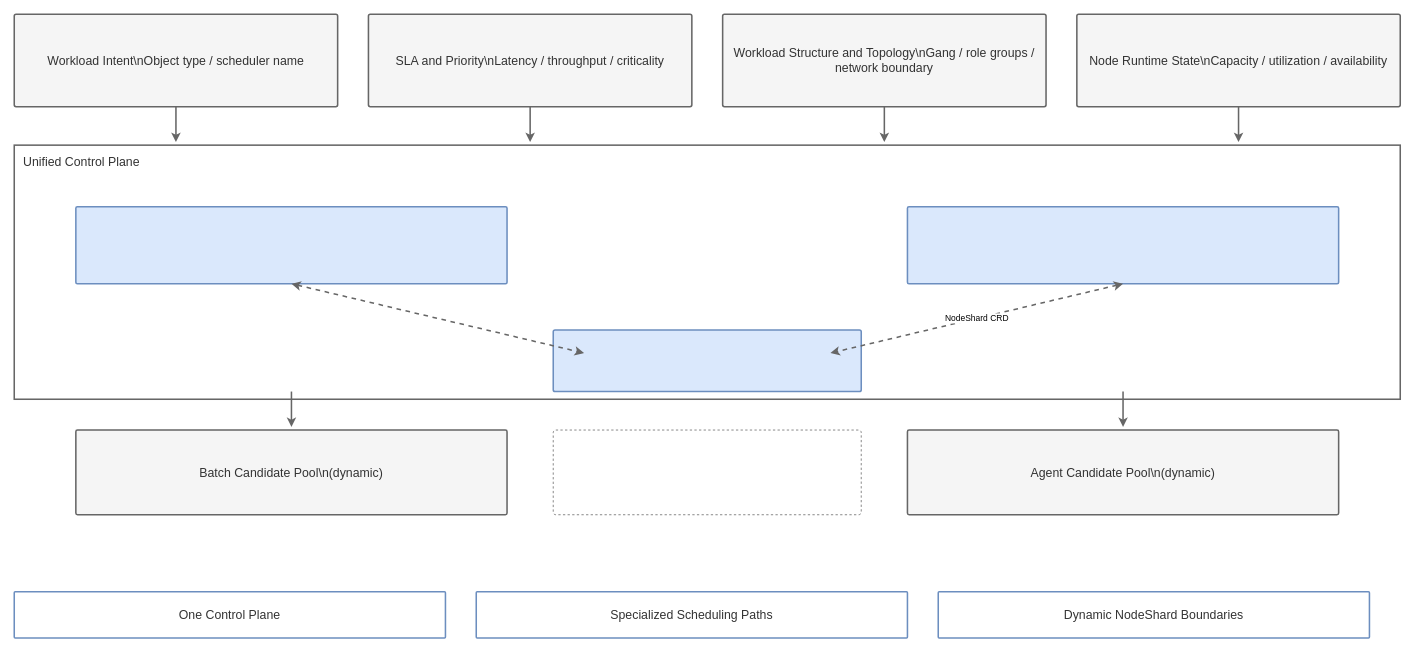
This 1414x651 diagram has some shape labels left out. Here are the shapes that lost their labels. From the top down, the centre of each, then its label:
[291,245]: Volcano Batch Scheduler
[1122,245]: Volcano Agent Scheduler
[707,360]: Sharding Controller\nDynamic NodeShard Boundaries
[706,472]: Shared / Overlap\nZone (resizable)
